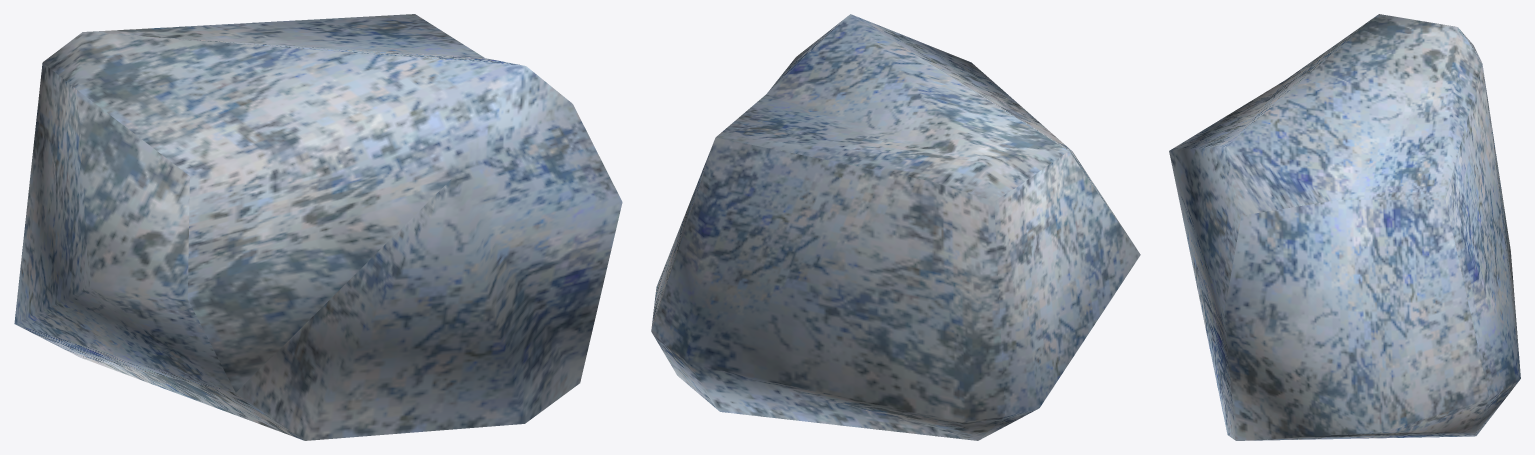
File: asteroid_ice_radial_s03_l2.fbx
3 views of the same model, side by side, from view 1: azimuth 30°, elevation 25°; view 2: azimuth 150°, elevation 25°; view 3: azimuth 270°, elevation 25° (orthographic). The views are drawn at different scales.
Parts seen in each view (by area): view 1: mesh_node; view 2: mesh_node; view 3: mesh_node.
Part boxes in pixels (<box>): mesh_node: <box>14,14,622,440</box>; mesh_node: <box>651,14,1140,440</box>; mesh_node: <box>1169,14,1520,440</box>.
Bounding box in the file's own units: 4.7 × 3.09 × 3.39.
